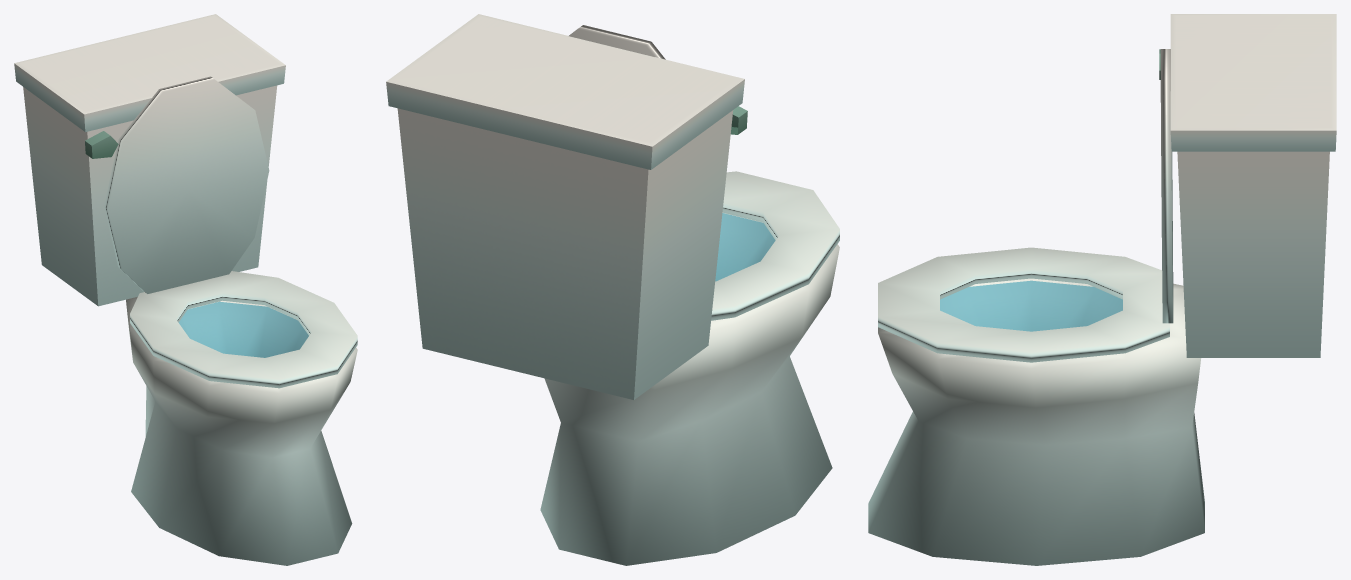
File: Prop_Toilet.fbx
The picture shows the model from 3 angles, left to right: view 1: azimuth 30°, elevation 25°; view 2: azimuth 150°, elevation 25°; view 3: azimuth 270°, elevation 25°; orthographic projection. The views are drawn at different scales.
Parts seen in each view (by area): view 1: Prop_Toilet; view 2: Prop_Toilet; view 3: Prop_Toilet.
Boxes of the visible parts, x1=… form: Prop_Toilet: x1=14, y1=14, x2=357, y2=565; Prop_Toilet: x1=386, y1=14, x2=839, y2=565; Prop_Toilet: x1=868, y1=14, x2=1336, y2=565.
Bounding box in the file's own units: 128 × 233 × 217.
